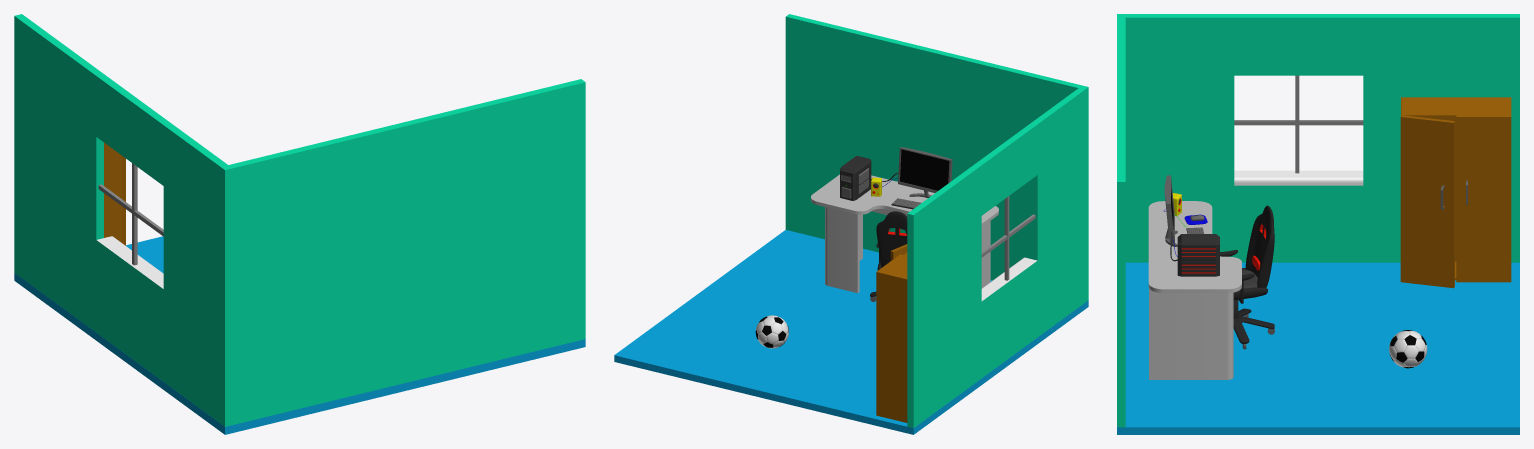
Rendered from numbers.glb.
3 views of the same model, side by side, from view 1: azimuth 30°, elevation 25°; view 2: azimuth 150°, elevation 25°; view 3: azimuth 270°, elevation 25° (orthographic). The views are drawn at different scales.
Parts seen in each view (by area): view 1: Cube.010, Cube.009, Cube.008, Cube.015, Cube.011; view 2: Cube.010, Cube.009, Cube.008, Cube.003, Cube.015, Cube.004, Cube.022, Cube.005, Icosphere, Cube.011; view 3: Cube.009, Cube.008, Cube.015, Cube.003, Cube.010, Cube.022, Cube.005, Icosphere, Cube.012, Cube.004, Cube.011.
Part boxes in pixels (bbox=[...]): Cube.010: bbox=[220, 79, 585, 426]; Cube.009: bbox=[14, 14, 227, 423]; Cube.008: bbox=[14, 236, 585, 434]; Cube.015: bbox=[104, 142, 125, 245]; Cube.011: bbox=[132, 163, 137, 265]; Cube.010: bbox=[785, 14, 1088, 302]; Cube.009: bbox=[907, 88, 1084, 428]; Cube.008: bbox=[614, 230, 1088, 434]; Cube.003: bbox=[811, 174, 998, 293]; Cube.015: bbox=[876, 244, 907, 422]; Cube.004: bbox=[898, 147, 952, 197]; Cube.022: bbox=[870, 211, 907, 301]; Cube.005: bbox=[840, 155, 871, 200]; Icosphere: bbox=[755, 315, 788, 348]; Cube.011: bbox=[1004, 196, 1009, 280]; Cube.009: bbox=[1125, 14, 1519, 262]; Cube.008: bbox=[1117, 262, 1519, 434]; Cube.015: bbox=[1400, 97, 1511, 288]; Cube.003: bbox=[1148, 201, 1241, 379]; Cube.010: bbox=[1117, 14, 1125, 427]; Cube.022: bbox=[1220, 205, 1274, 349]; Cube.005: bbox=[1177, 234, 1220, 276]; Icosphere: bbox=[1389, 330, 1427, 368]; Cube.012: bbox=[1234, 120, 1363, 125]; Cube.004: bbox=[1164, 175, 1177, 246]; Cube.011: bbox=[1295, 75, 1299, 173].
Bounding box in the file's own units: 18.76 × 13.16 × 19.
